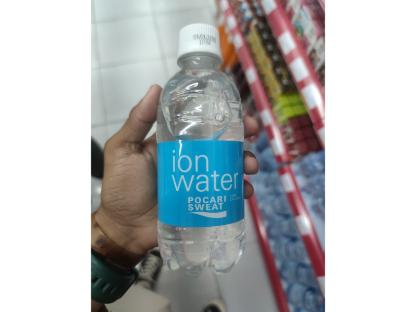Plastic Bottle: (156, 23, 248, 278)
